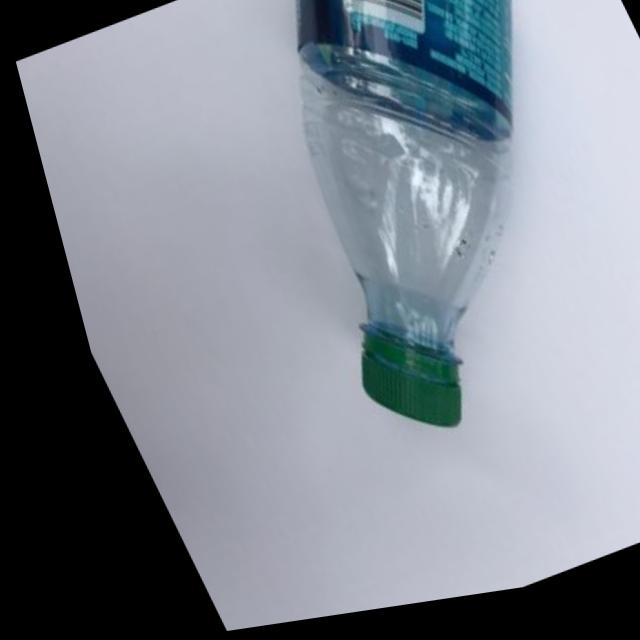plastic: (123, 0, 640, 548)
